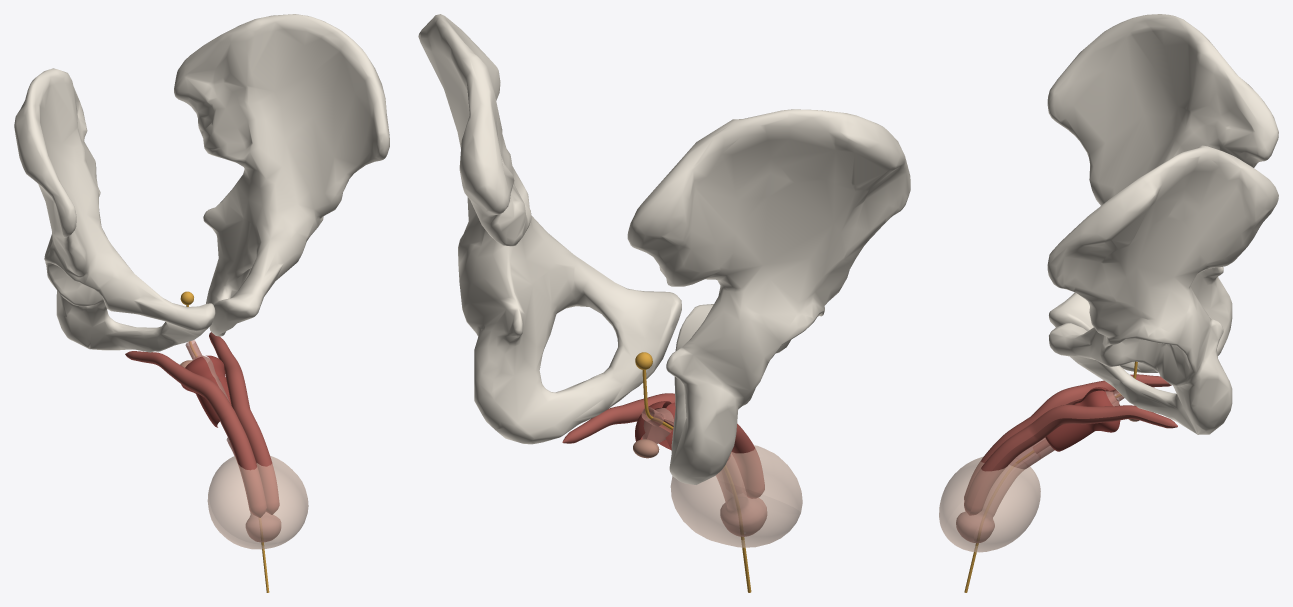
File: aus-27-dissection.glb
3 views of the same model, side by side, from view 1: azimuth 30°, elevation 25°; view 2: azimuth 150°, elevation 25°; view 3: azimuth 270°, elevation 25° (orthographic). The views are drawn at different scales.
Parts seen in each view (by area): view 1: Pubis_L, Pubis_R, Scrotum_shell, Crus_R, Crus_L, Corpus_spongiosum, Bulbospongiosus_R; view 2: Pubis_R, Pubis_L, Scrotum_shell, Corpus_spongiosum, Crus_L, Crus_R, Catheter; view 3: Pubis_L, Pubis_R, Scrotum_shell, Crus_L, Corpus_spongiosum, Crus_R, Bulbospongiosus_L, Catheter.
Part boxes in pixels (<box>): Pubis_L: <box>174,14,389,336</box>; Pubis_R: <box>14,68,215,352</box>; Scrotum_shell: <box>207,455,308,549</box>; Crus_R: <box>125,351,266,517</box>; Crus_L: <box>209,332,279,514</box>; Corpus_spongiosum: <box>185,340,281,542</box>; Bulbospongiosus_R: <box>181,356,219,427</box>; Pubis_R: <box>627,109,910,484</box>; Pubis_L: <box>418,14,681,444</box>; Scrotum_shell: <box>670,445,802,547</box>; Corpus_spongiosum: <box>641,407,767,536</box>; Crus_L: <box>562,393,739,492</box>; Crus_R: <box>731,423,764,498</box>; Catheter: <box>635,352,751,592</box>; Pubis_L: <box>1047,145,1278,434</box>; Pubis_R: <box>1047,14,1278,372</box>; Scrotum_shell: <box>939,456,1040,552</box>; Crus_L: <box>964,404,1177,515</box>; Corpus_spongiosum: <box>956,390,1124,543</box>; Crus_R: <box>964,374,1171,500</box>; Bulbospongiosus_L: <box>1045,390,1120,451</box>; Catheter: <box>964,361,1137,592</box>.
Size of what is drawn, in the model's own units: 0.2698 by 0.3444 by 0.2098.
